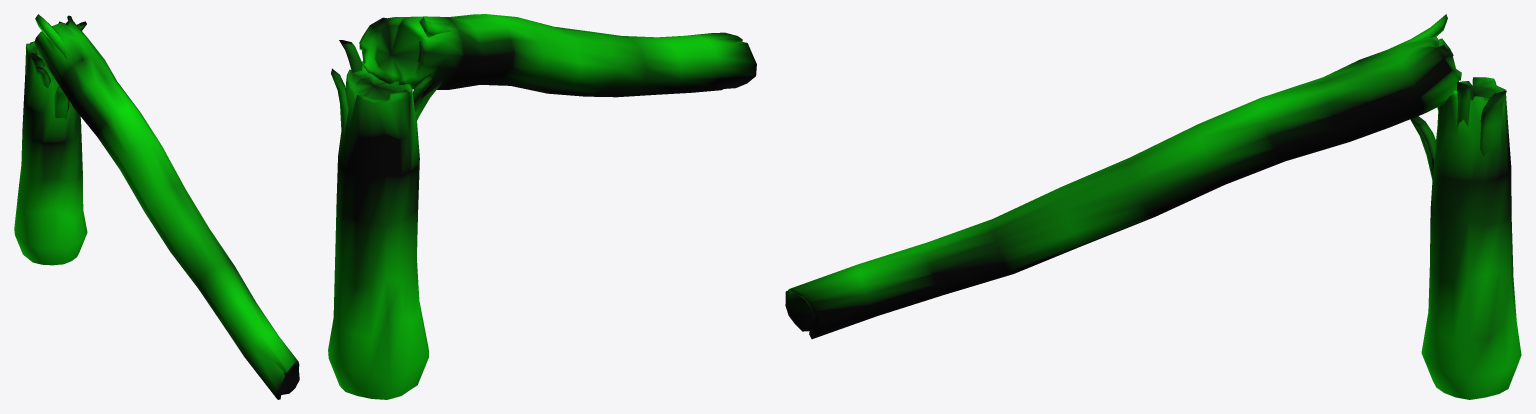
Rendered from SM_PalmFallen03.fbx.
3 renders of one model, left to right at view 1: azimuth 30°, elevation 25°; view 2: azimuth 150°, elevation 25°; view 3: azimuth 270°, elevation 25°, orthographic. The views are drawn at different scales.
Parts seen in each view (by area): view 1: SM_PalmFallen03; view 2: SM_PalmFallen03; view 3: SM_PalmFallen03.
Boxes of the visible parts, x1=… form: SM_PalmFallen03: x1=14, y1=14, x2=299, y2=399; SM_PalmFallen03: x1=328, y1=14, x2=756, y2=399; SM_PalmFallen03: x1=785, y1=14, x2=1521, y2=399.
Size of the model in its own units: 96.56 by 367 by 693.
